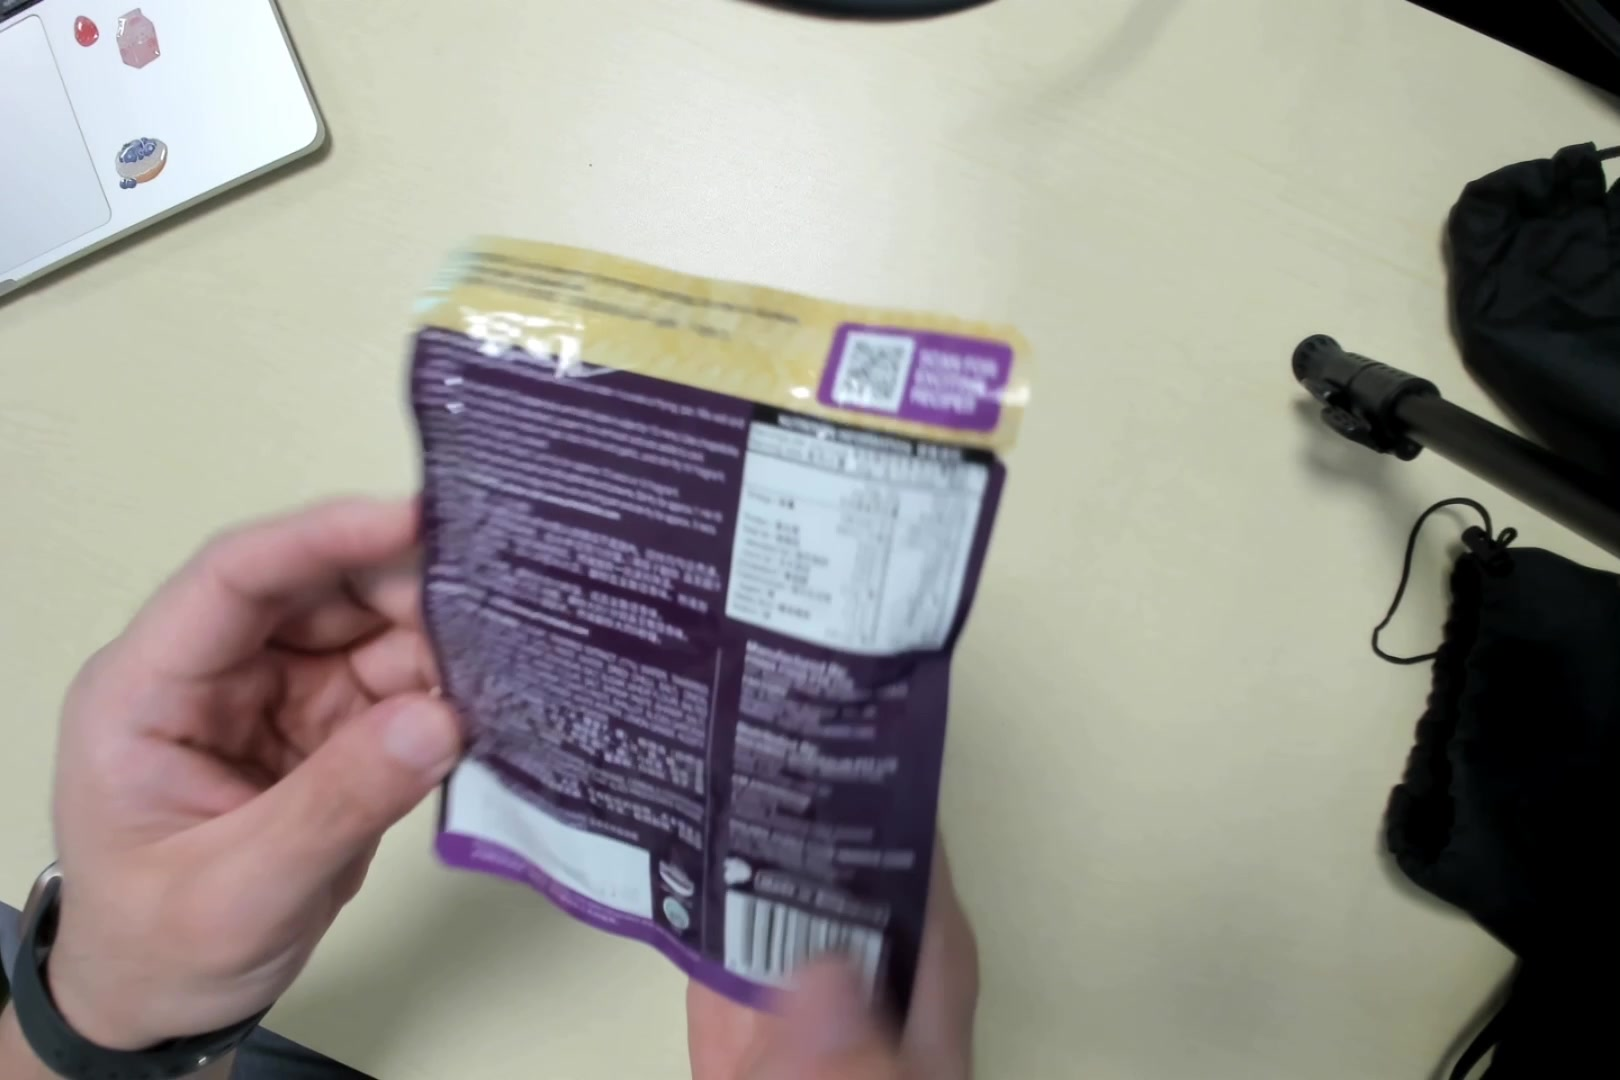CurryPastePowderSauce_0-99g_NonHalal_NonHealthy: (410, 247, 990, 1019)
